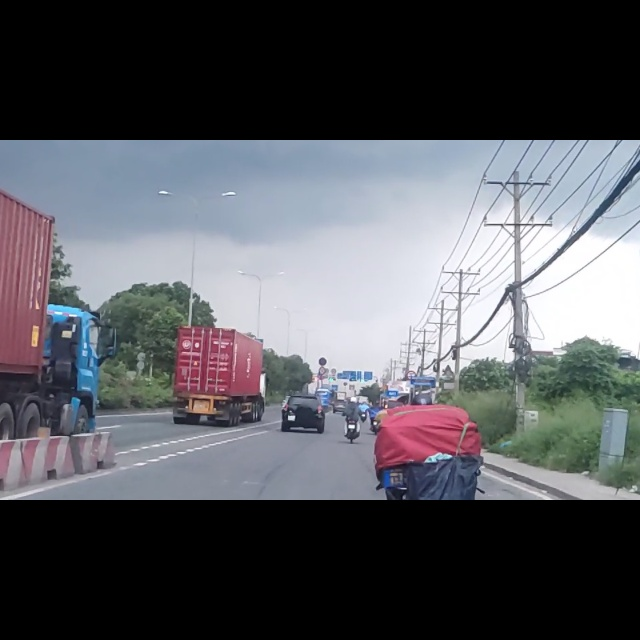bien_chi_dan: (318, 386, 327, 401)
